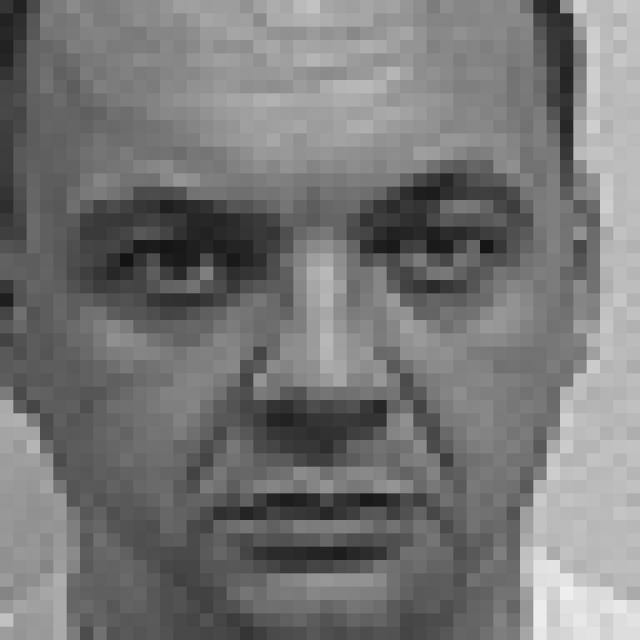neutral: (84, 156, 537, 572)
